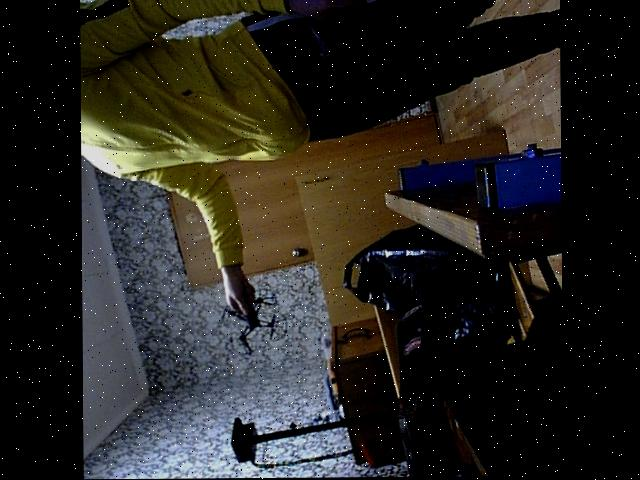drone: (213, 280, 283, 359)
